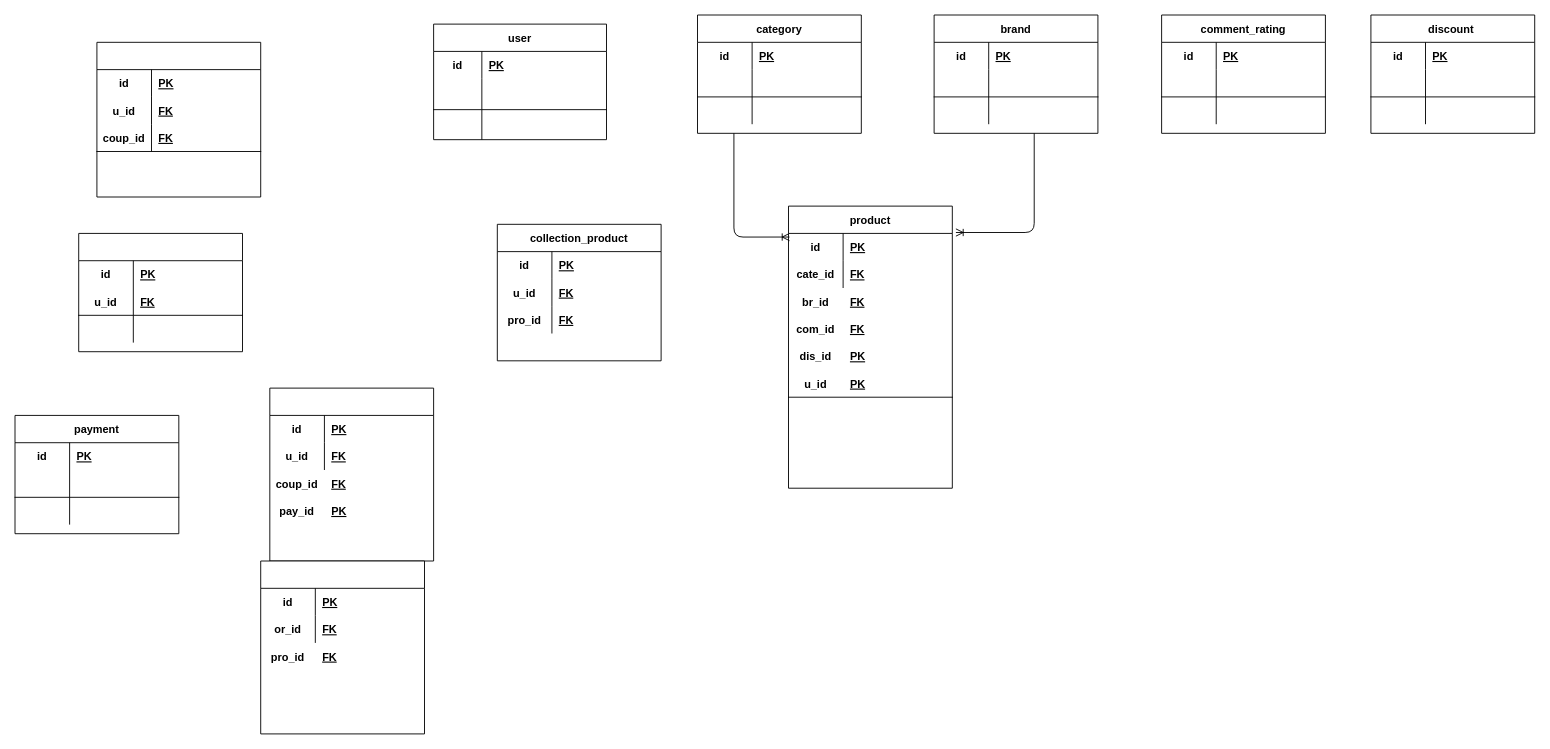
Image size: 1550x749. Some labels were removed from this diagram. The shapes that lost their labels are listed below. From the top down, each one's box as (x1, y1, x2, y2) in pixels, then its label:
(96, 41, 261, 197): collection_coupon
(78, 233, 243, 352): coupon
(269, 387, 434, 561): order
(260, 560, 425, 734): order_detail
